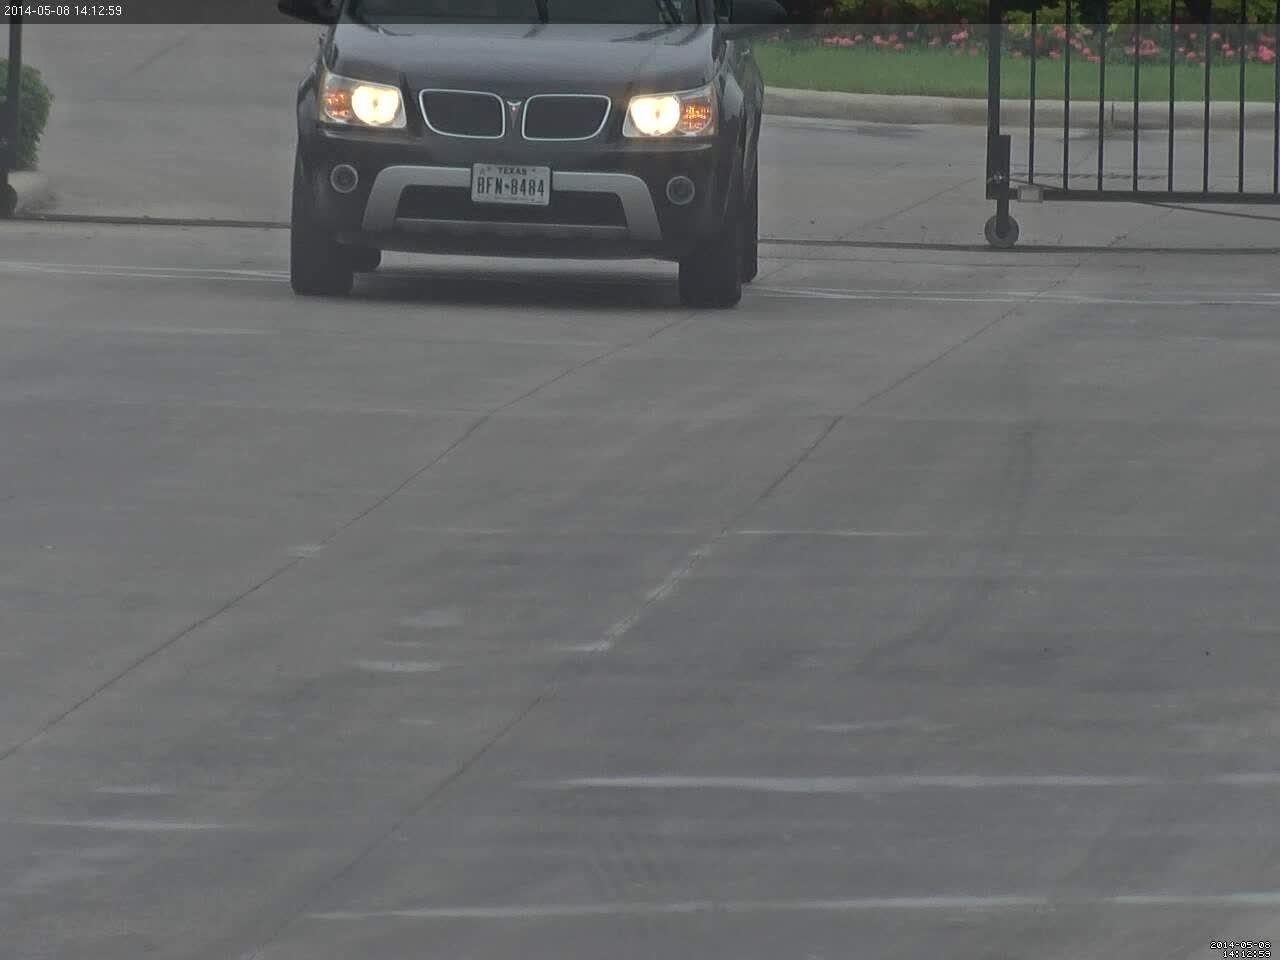placa de veiculo: (461, 151, 563, 224)
